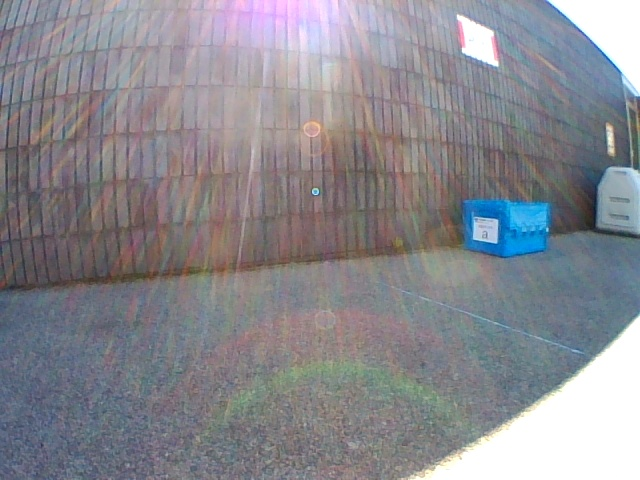blue_box: (464, 200, 550, 259)
tag_a: (475, 220, 497, 239)
